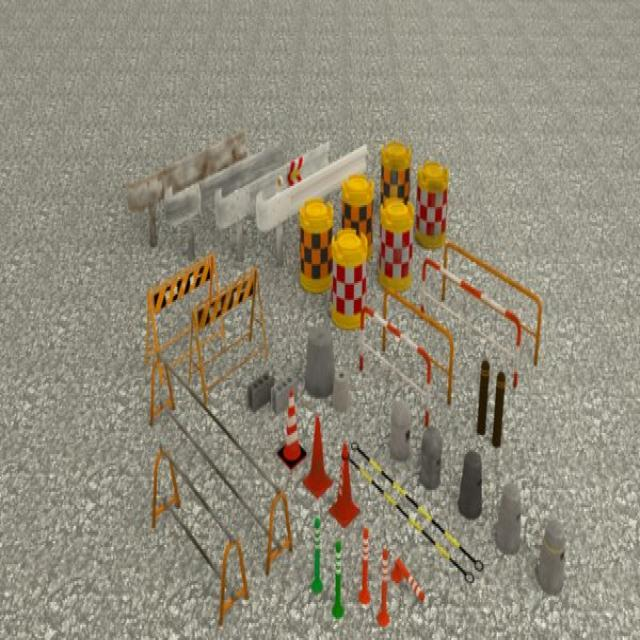cone: (130, 256, 279, 410)
